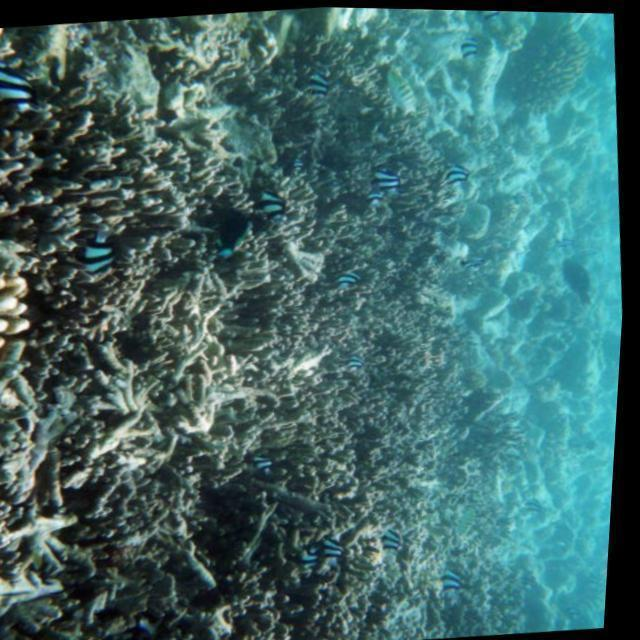Dead Coral: (0, 7, 476, 640)
